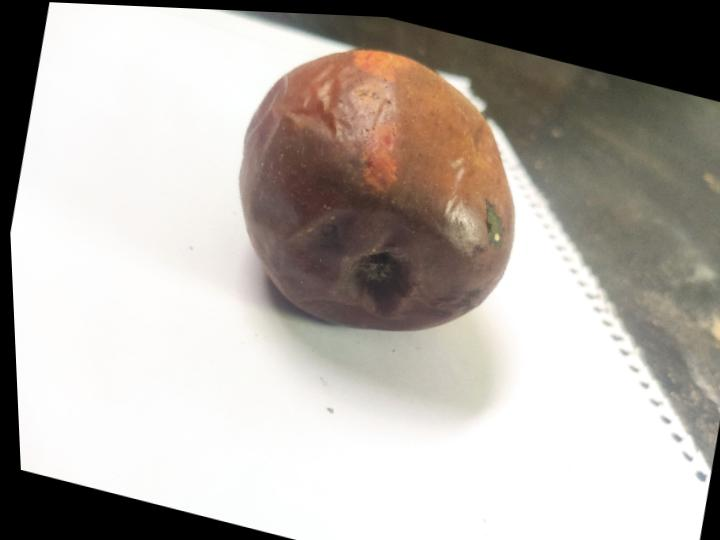apple: (240, 50, 515, 330)
rot_mold_decay: (239, 53, 513, 330), (486, 200, 503, 247)
